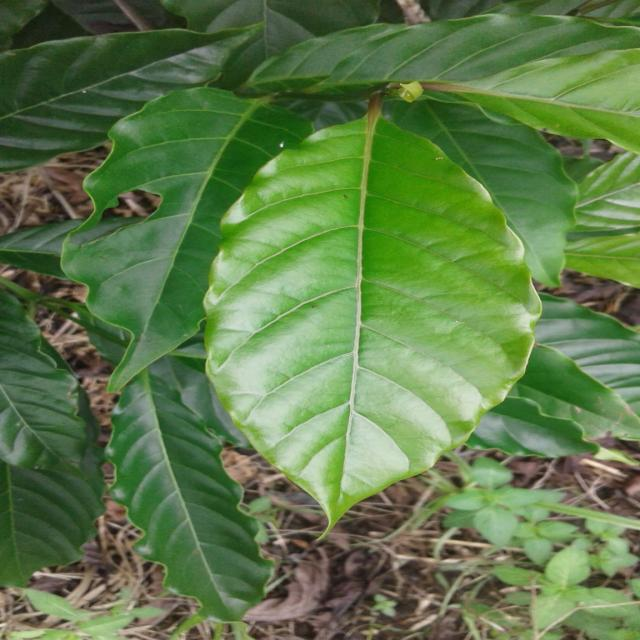Sanas: (202, 111, 543, 530)
